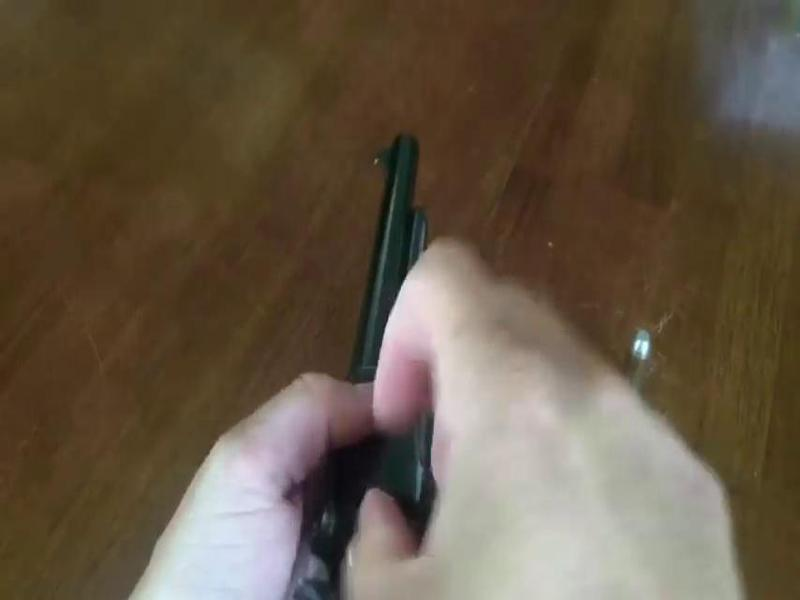Revolver: (318, 110, 492, 566)
